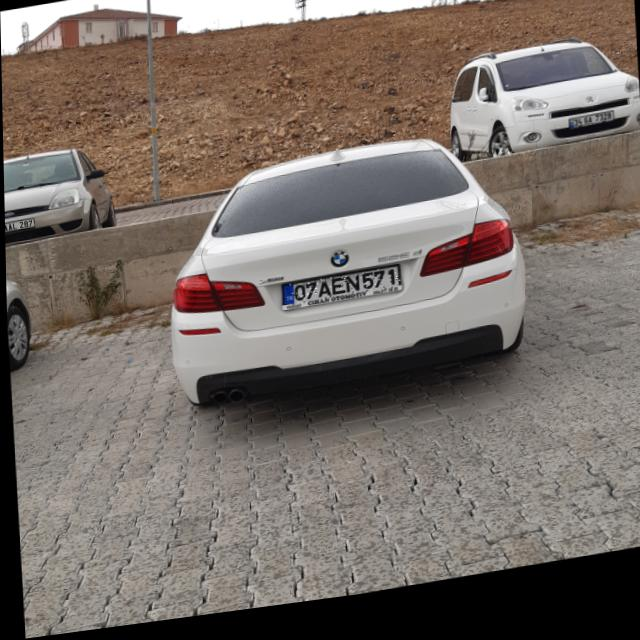license_plate: (280, 276, 400, 314)
